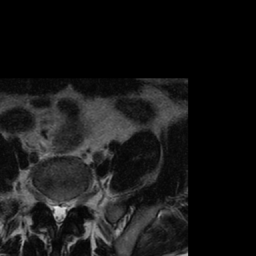CCS_normal: (55, 191, 62, 235)
LFS_normal: (70, 189, 78, 215)
LLS_normal: (62, 191, 70, 225)
RFS_normal: (40, 184, 48, 211)
RLS_normal: (48, 189, 55, 225)
